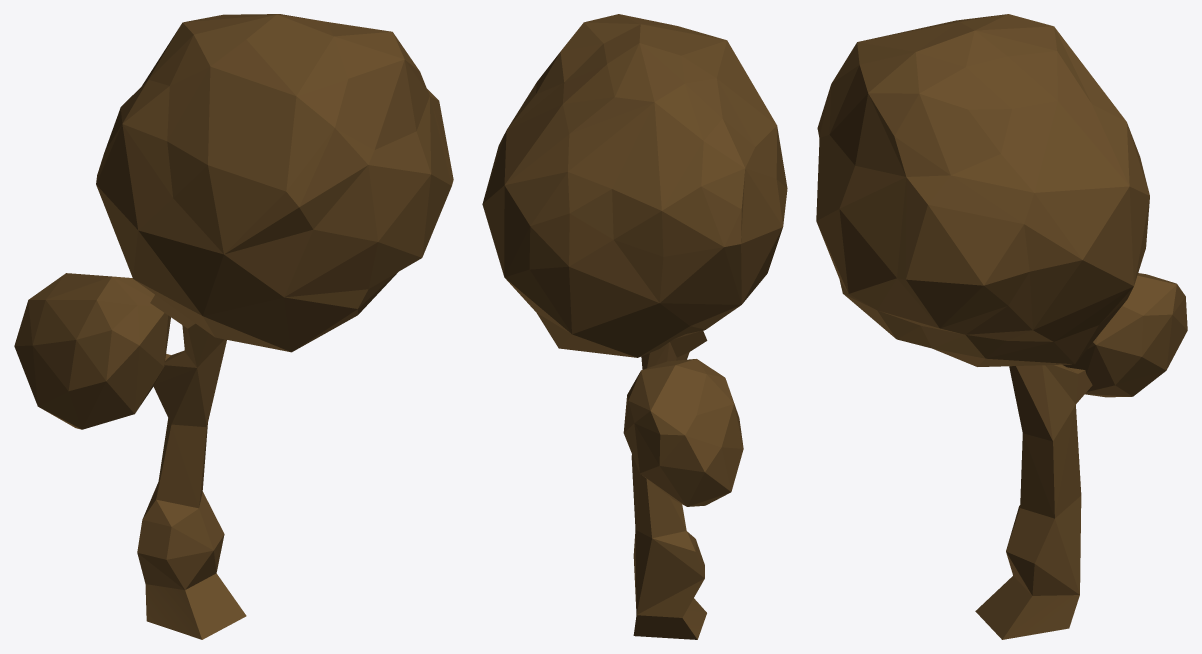
The model's file is Small_Tree_03.fbx.
3 views of the same model, side by side, from view 1: azimuth 30°, elevation 25°; view 2: azimuth 150°, elevation 25°; view 3: azimuth 270°, elevation 25° (orthographic). The views are drawn at different scales.
Parts seen in each view (by area): view 1: Tree1.002; view 2: Tree1.002; view 3: Tree1.002.
Part boxes in pixels (x1,y1,x2,y2): Tree1.002: (14, 14, 453, 639); Tree1.002: (482, 14, 787, 639); Tree1.002: (816, 14, 1187, 639).
Bounding box in the file's own units: 1443 × 2590 × 1412.
